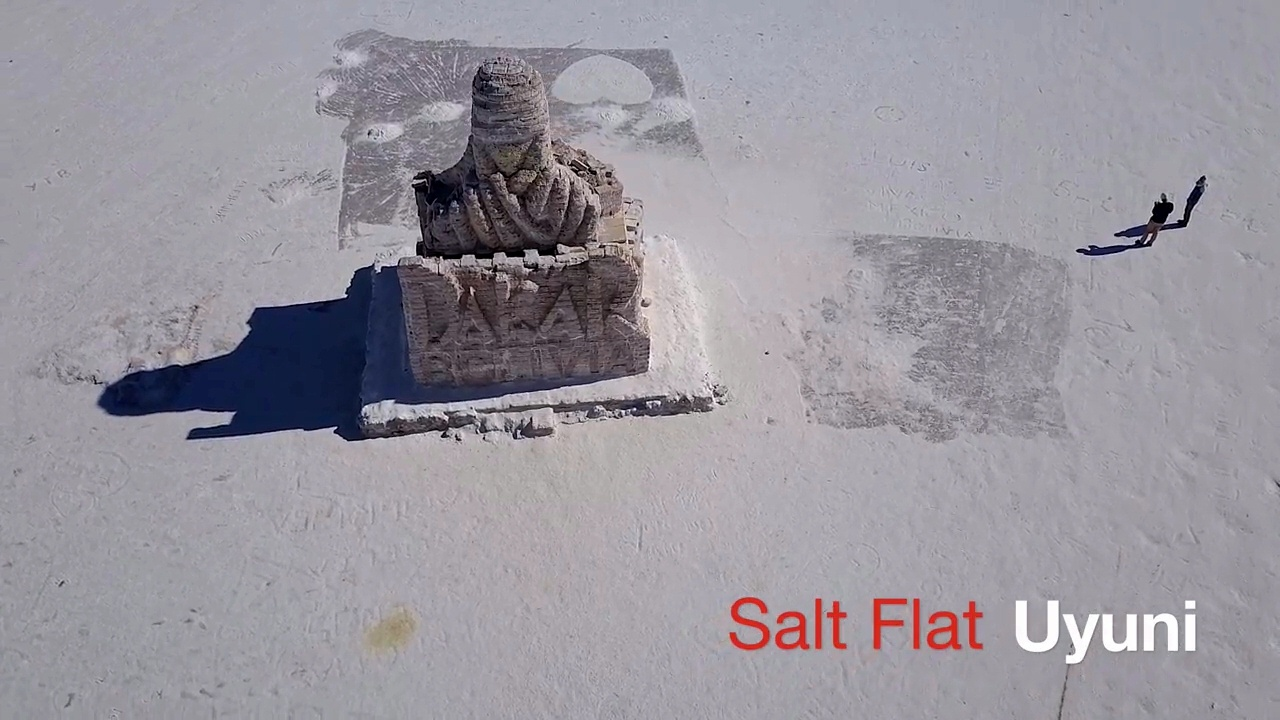insan: (1136, 191, 1174, 250), (1182, 170, 1210, 228)
